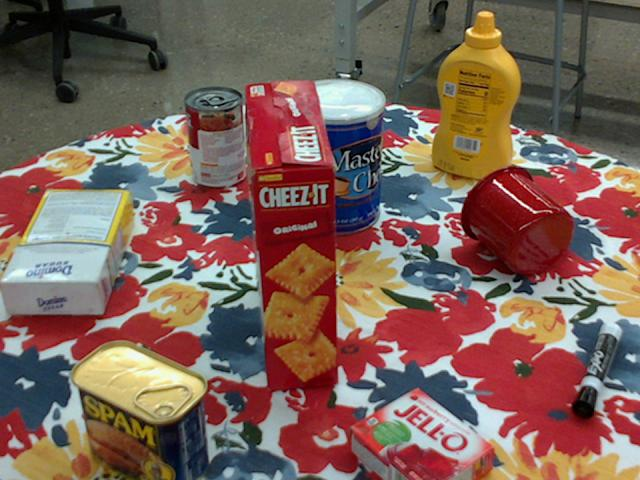cracker_box: (244, 84, 335, 391)
gelatin_box: (349, 387, 496, 479)
large_marker: (572, 320, 622, 414)
master_chef_can: (287, 78, 384, 235)
mug: (459, 165, 574, 274)
mustard_bottle: (431, 13, 519, 179)
potted_meat_can: (66, 341, 207, 479)
sugar_box: (0, 190, 133, 316)
tomato_soup_can: (184, 87, 245, 189)
tuna_fish_can: (309, 115, 377, 167)
